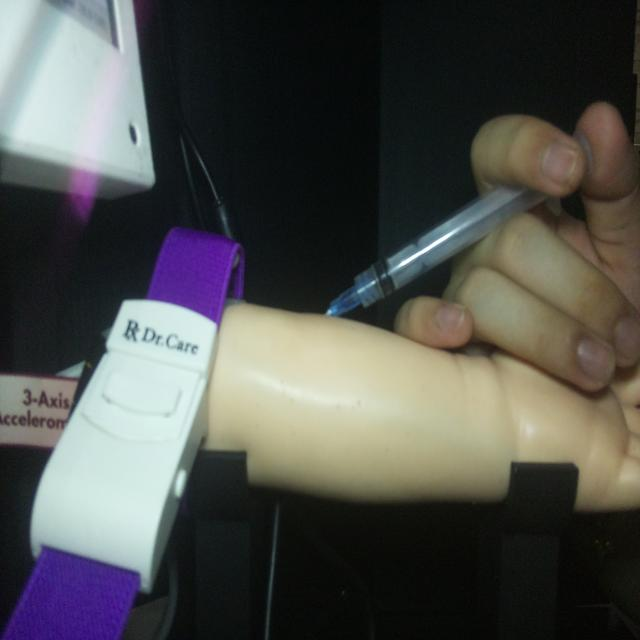26 degrees: (326, 129, 596, 318)
